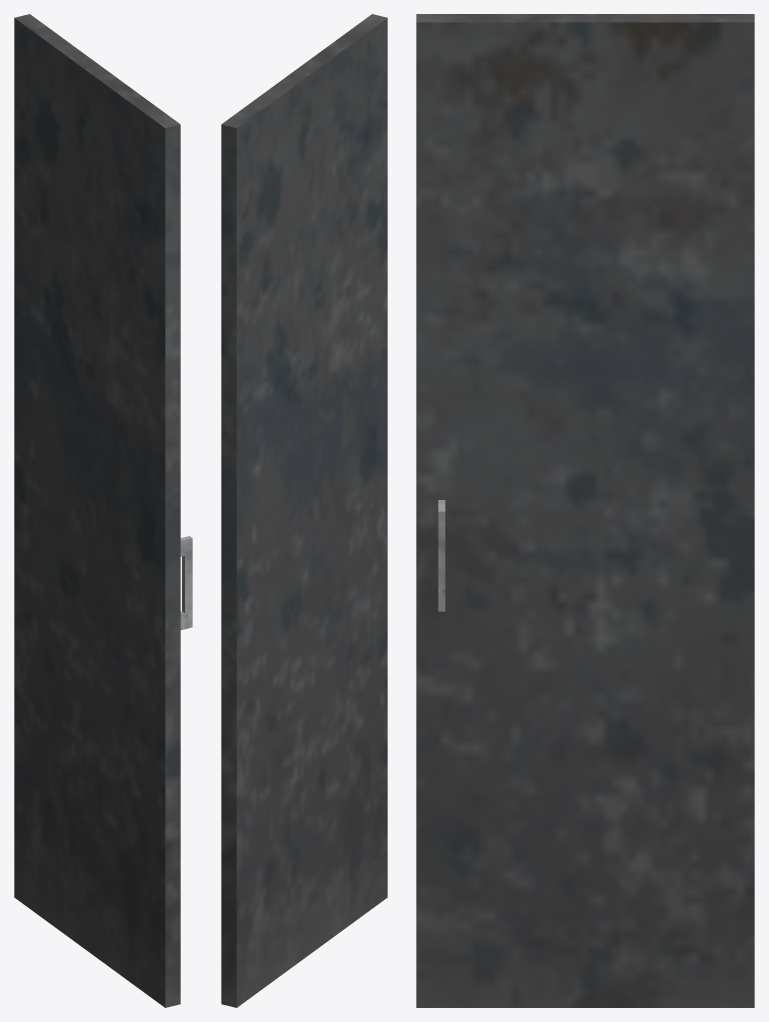
Rendered from CupboardDoor_SM.fbx.
3 views of the same model, side by side, from view 1: azimuth 30°, elevation 25°; view 2: azimuth 150°, elevation 25°; view 3: azimuth 270°, elevation 25° (orthographic). The views are drawn at different scales.
Parts seen in each view (by area): view 1: Door; view 2: Door; view 3: Door.
Part boxes in pixels (left/top/right/bottom): Door: left=14, top=14, right=192, bottom=1007; Door: left=221, top=14, right=387, bottom=1007; Door: left=416, top=14, right=754, bottom=1007.
Size of the model in its own units: 10.11 by 229 by 71.09.
